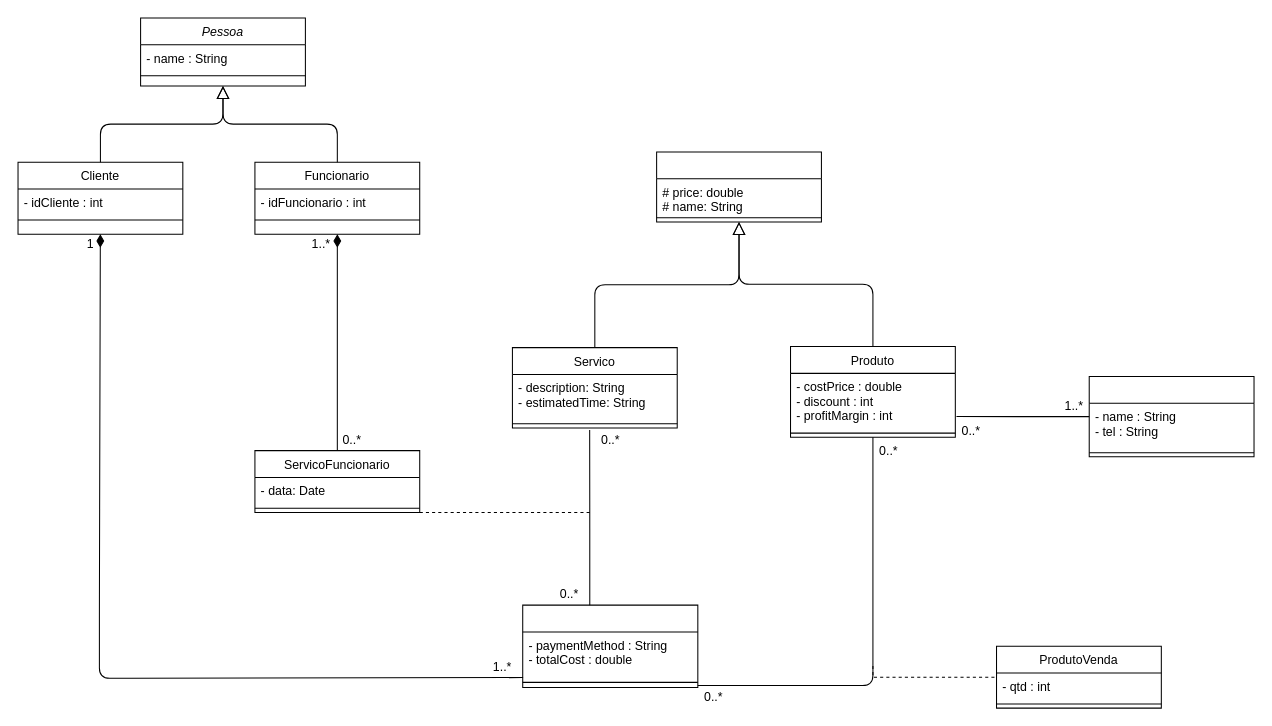
Some shapes in this 1272 by 726 pixel diagram are drawn without their labels. Here are the shapes that lost their labels. From the top down, the box of each, then its label:
(656, 151, 821, 222): Vendivel
(1088, 375, 1254, 457): Fornecedor
(522, 604, 698, 688): Venda
